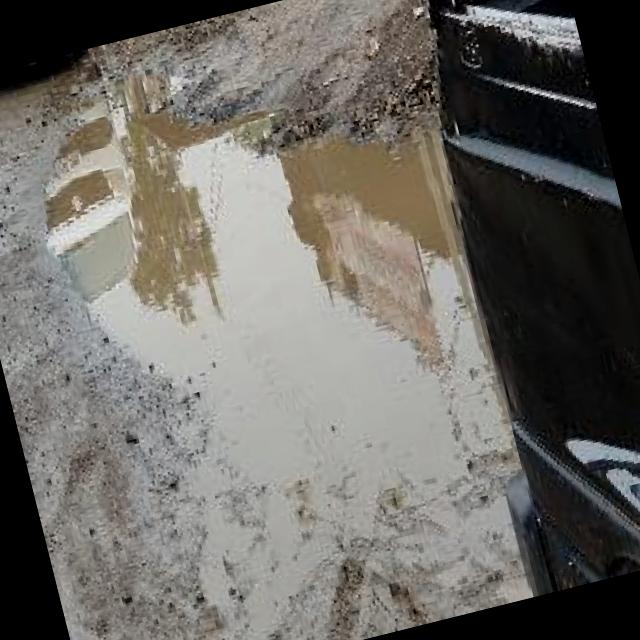stagnation: (18, 70, 478, 501)
